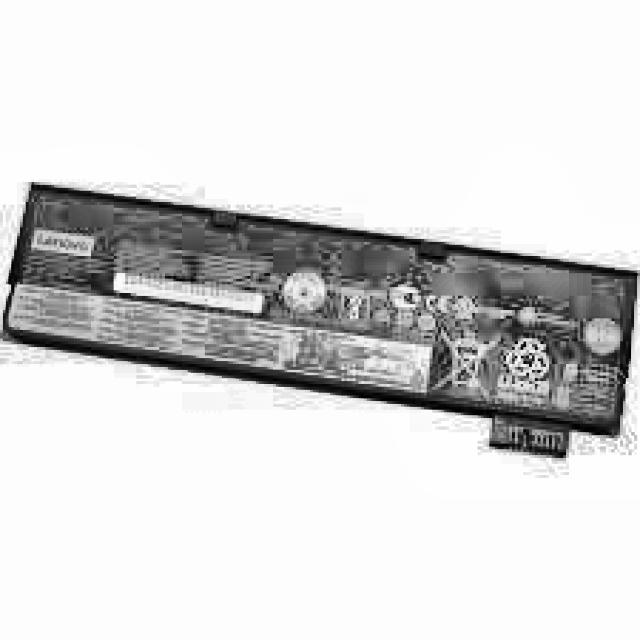Battery: (0, 171, 640, 478)
